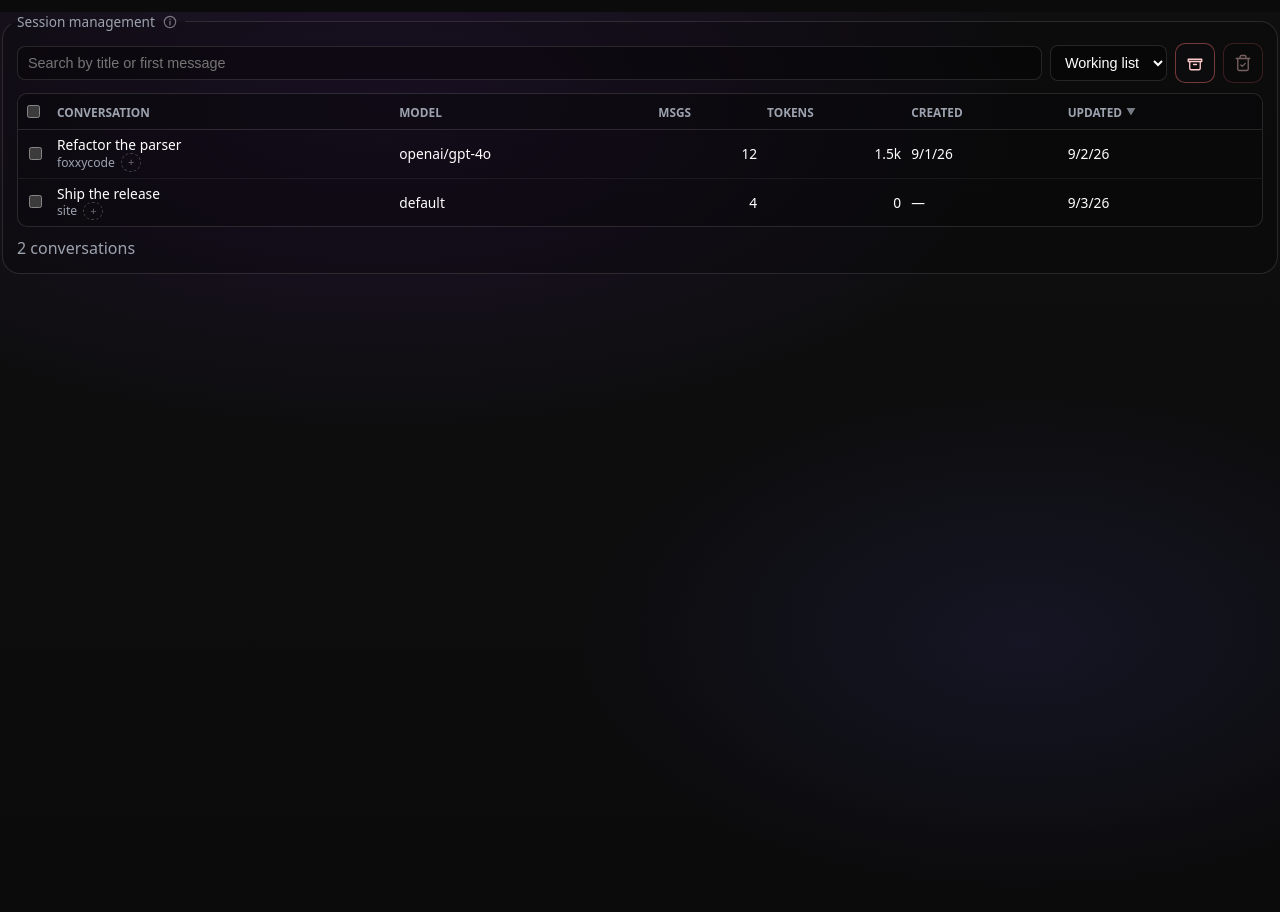
Test: the header checkbox selects and clears every rendered row
This screenshot has width=1280, height=912.
Check: the row with test id "sessions-manager-row-sess_one" is shown, box [18,130,1262,178]
Click the checkbox with test id "sessions-manager-select-all": (34, 112) [27,105,40,118]
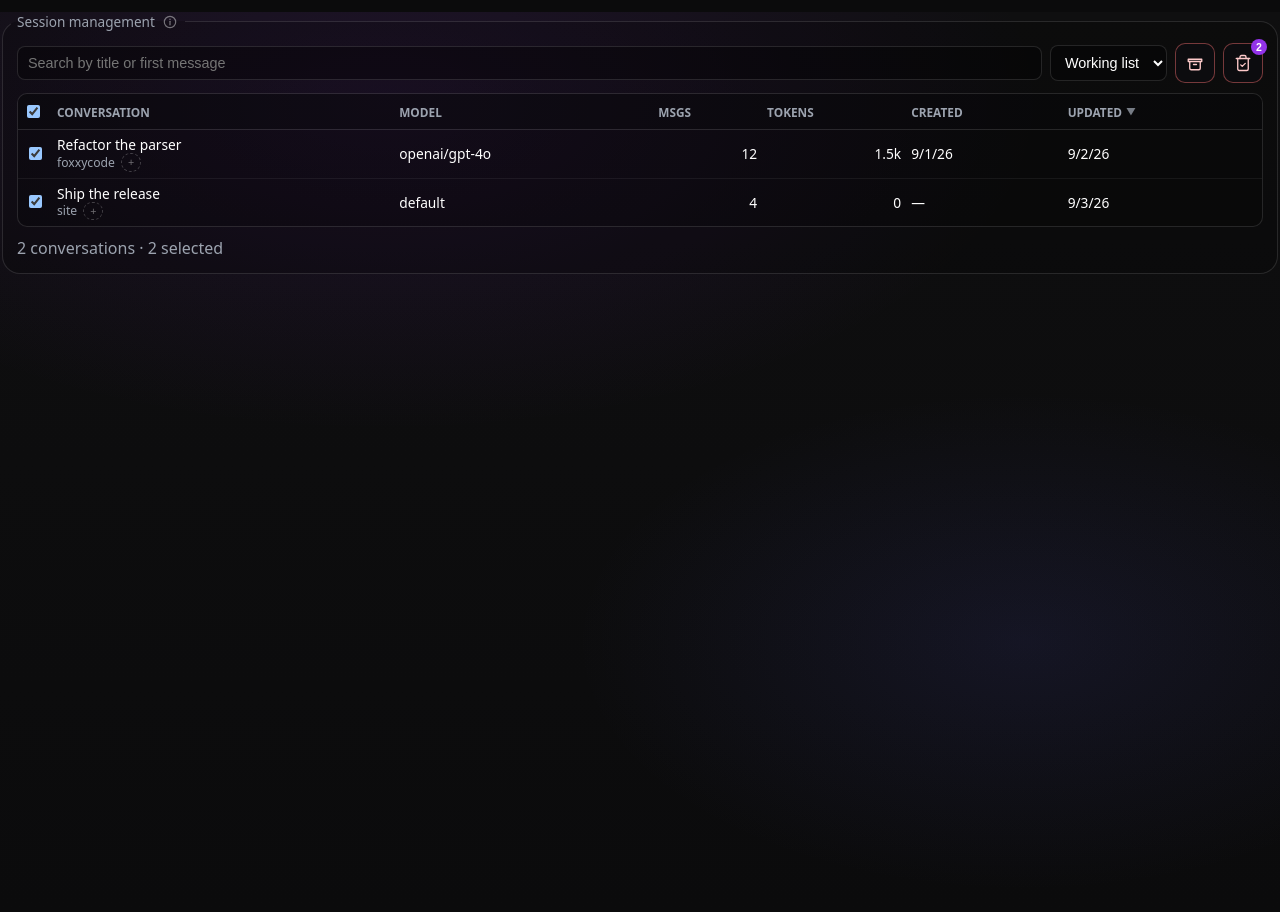
Check: the checkbox with test id "sessions-manager-pick-sess_one" is checked, box [29,147,42,160]
Check: the checkbox with test id "sessions-manager-pick-sess_two" is checked, box [29,195,42,208]
Click the checkbox with test id "sessions-manager-select-all": (34, 112) [27,105,40,118]
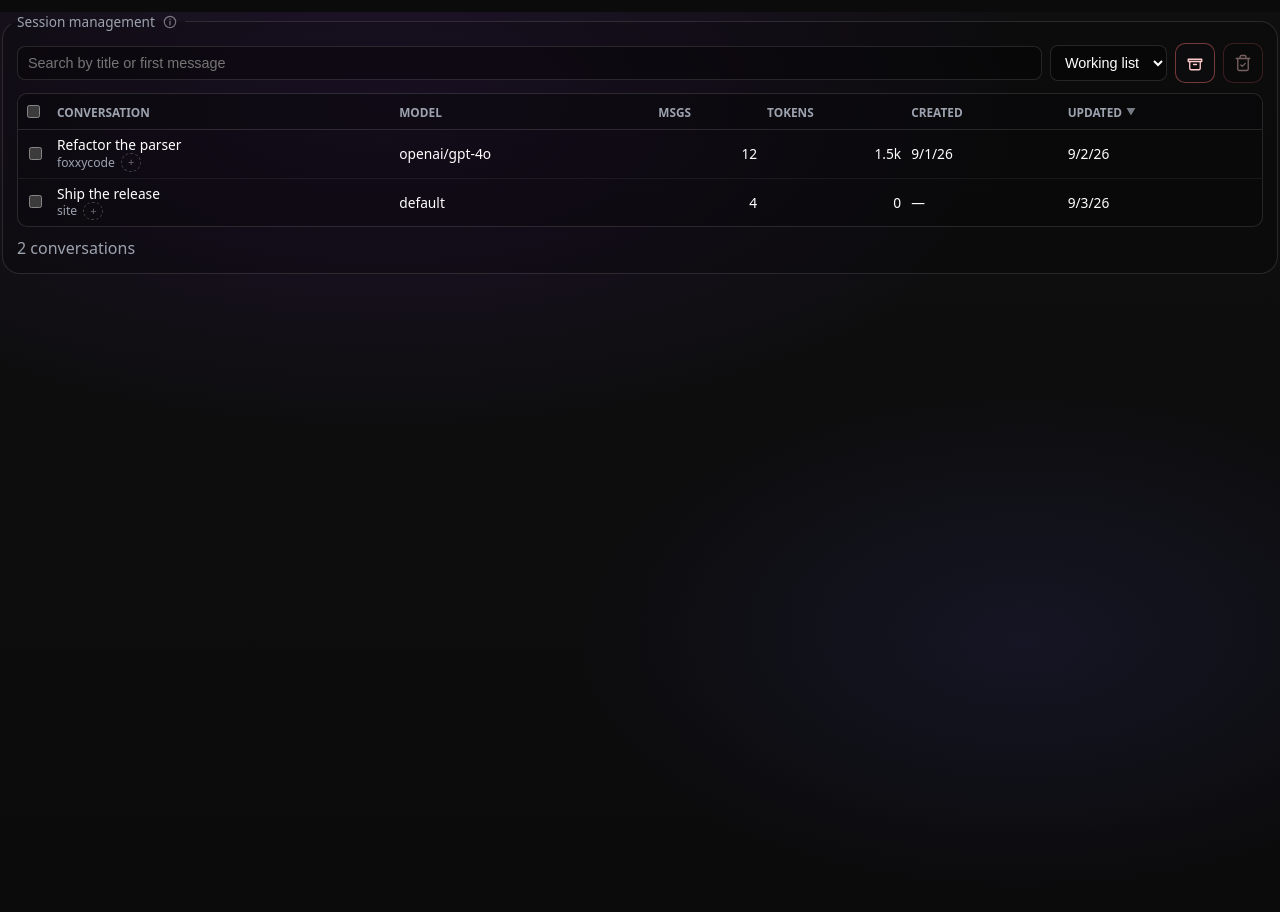
Check: the button with test id "sessions-manager-delete-selected" is disabled, box [1223,43,1263,83]
Check: the text with test id "sessions-manager-selected-count" is gone
